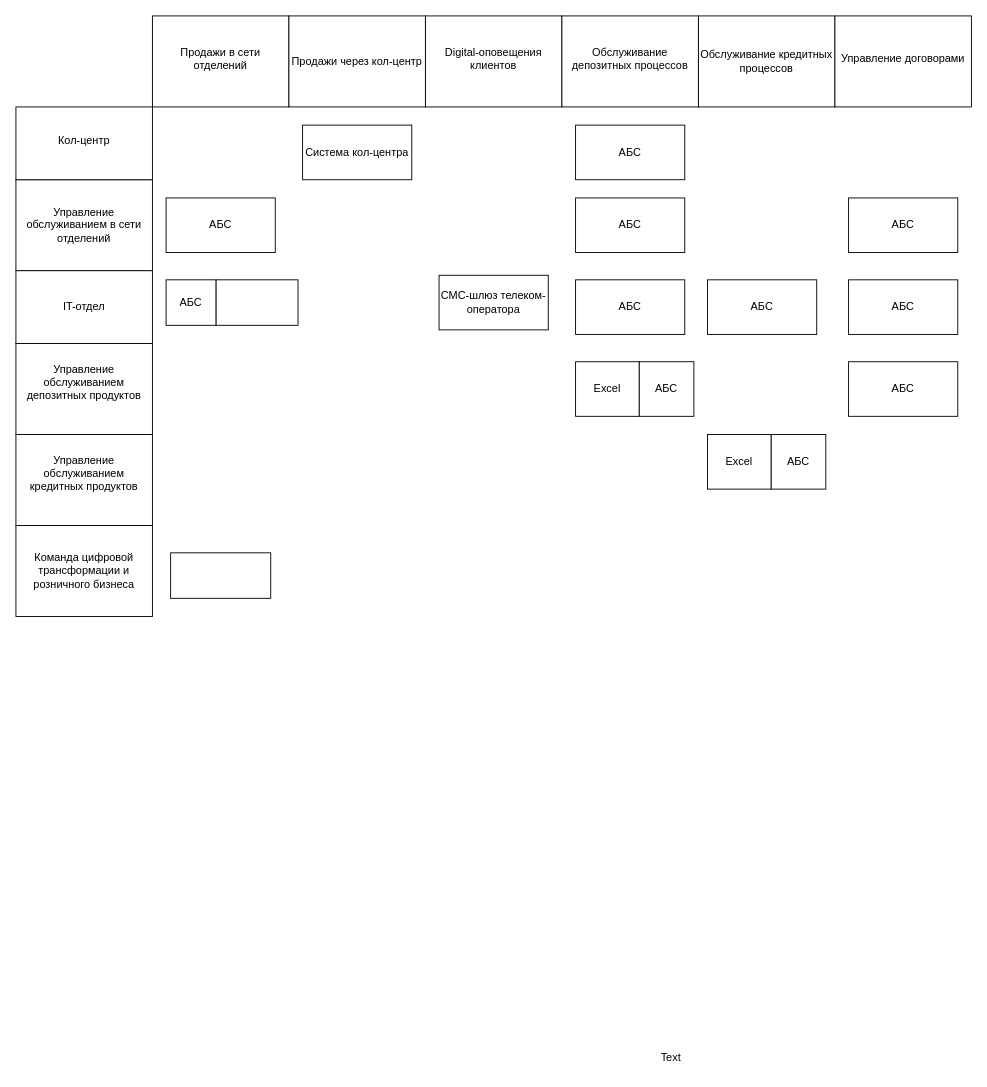
The diagram is 987 pixels wide and 1087 high, and some of its shapes have lost their labels. The centre of each missing label's shape, as x and y in pixels:
Интернет банк: the point at 220,575
Сайт: the point at 256,302
